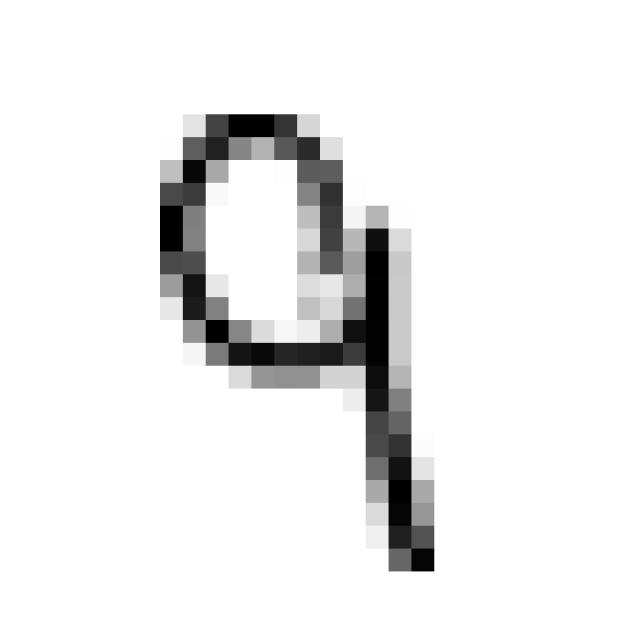9 -nine-: (139, 85, 444, 599)
